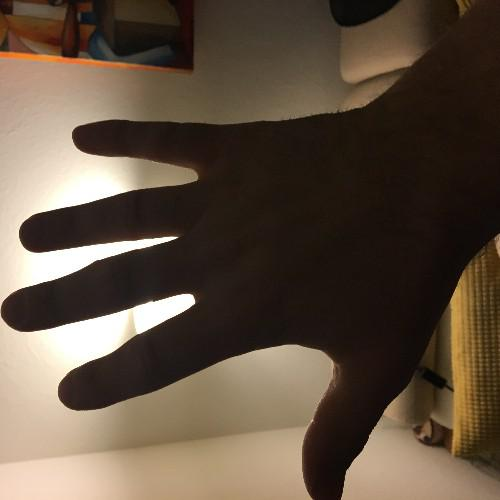paper: (1, 105, 485, 500)
